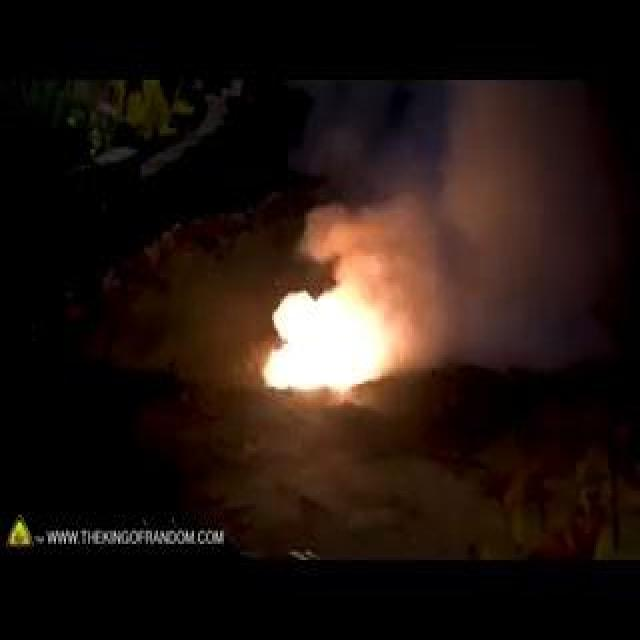Fire: (154, 216, 327, 294)
